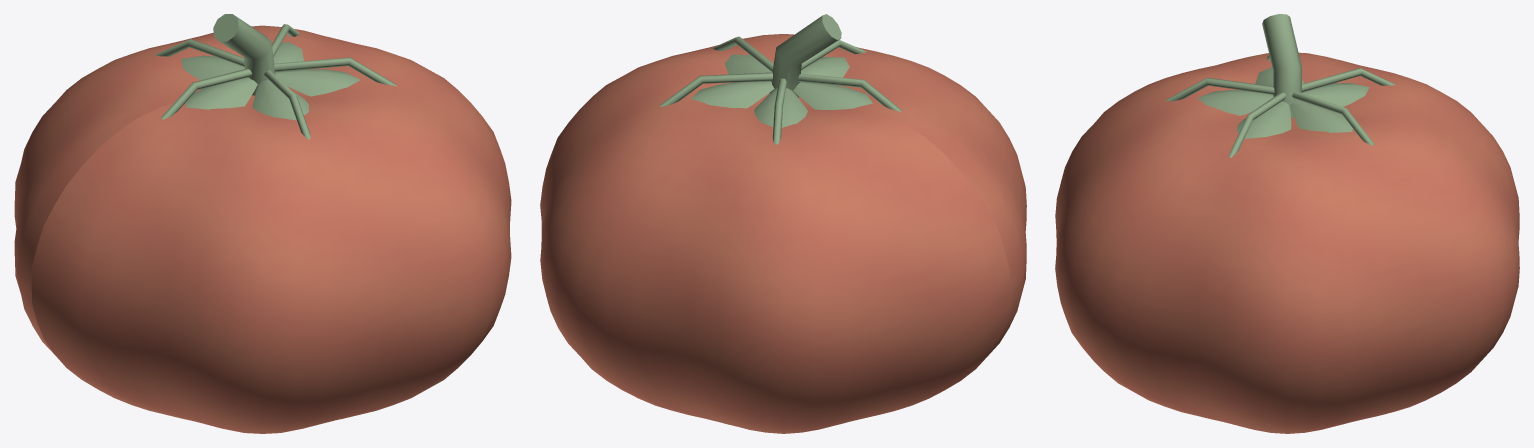
Rendered from tomato.glb.
3 renders of one model, left to right at view 1: azimuth 30°, elevation 25°; view 2: azimuth 150°, elevation 25°; view 3: azimuth 270°, elevation 25°, orthographic. The views are drawn at different scales.
Visible parts, largest first — view 1: library-tomato-lobed-tomato, library-tomato-product-tomato-calyx (×2); view 2: library-tomato-lobed-tomato, library-tomato-product-tomato-calyx (×2); view 3: library-tomato-lobed-tomato, library-tomato-product-tomato-calyx (×2).
Boxes of the visible parts, x1=… form: library-tomato-lobed-tomato: x1=14, y1=25, x2=511, y2=433; library-tomato-product-tomato-calyx (×2): x1=155, y1=14, x2=396, y2=138; library-tomato-lobed-tomato: x1=540, y1=34, x2=1026, y2=433; library-tomato-product-tomato-calyx (×2): x1=659, y1=14, x2=901, y2=144; library-tomato-lobed-tomato: x1=1055, y1=52, x2=1519, y2=433; library-tomato-product-tomato-calyx (×2): x1=1166, y1=14, x2=1395, y2=157.
Size of the model in its own units: 0.0863 by 0.0709 by 0.0802.
